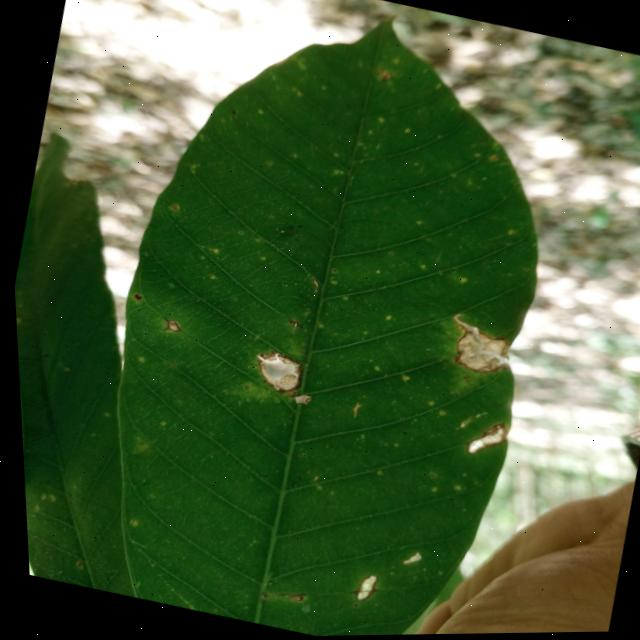Colletotrichum: (229, 111, 236, 116), (329, 270, 334, 274), (236, 231, 240, 234)
Leaf-Blight: (437, 313, 515, 381), (458, 417, 505, 462), (347, 573, 372, 604)
